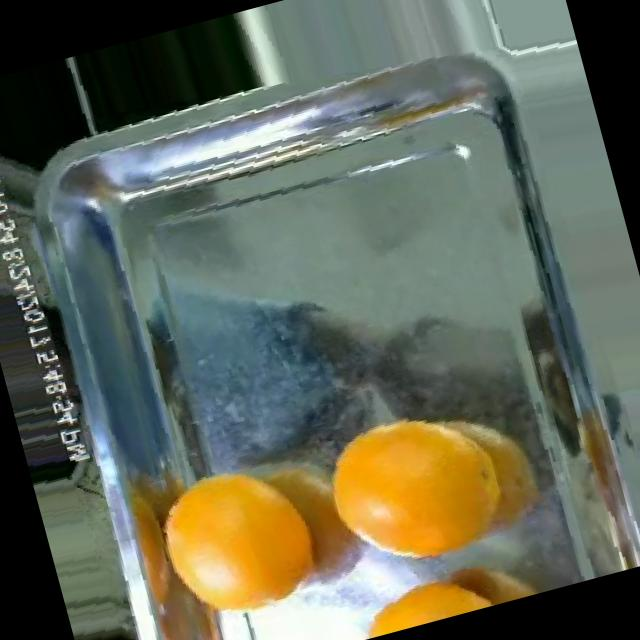Fruit: (294, 368, 545, 600), (127, 428, 363, 640), (339, 553, 499, 640), (0, 55, 96, 184)
